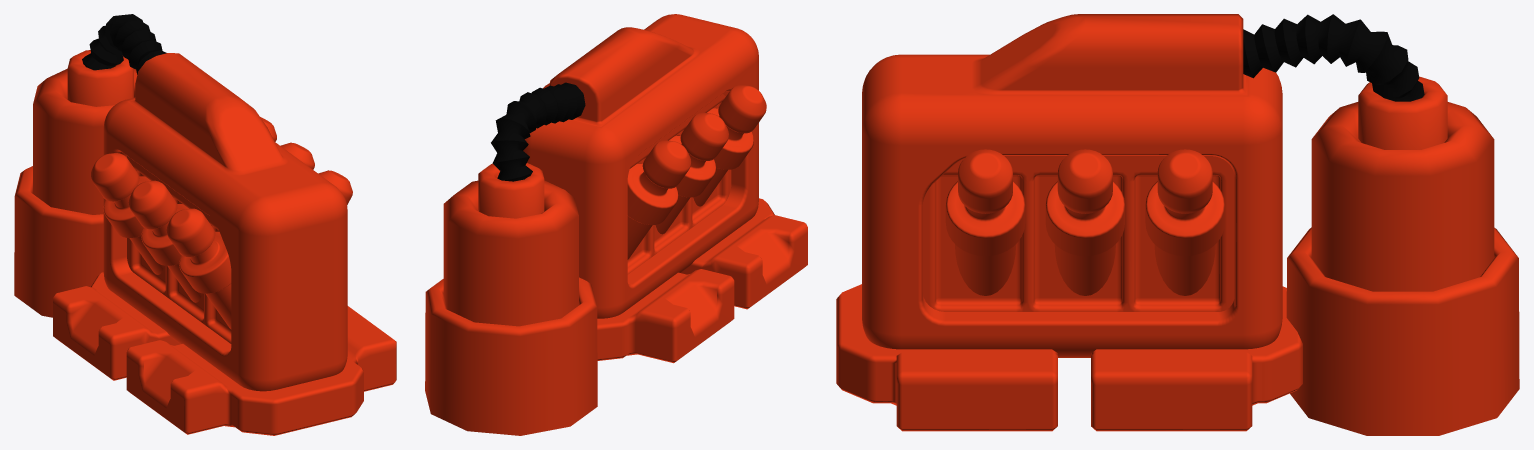
3 views of the same model, side by side, from view 1: azimuth 30°, elevation 25°; view 2: azimuth 150°, elevation 25°; view 3: azimuth 270°, elevation 25° (orthographic). The views are drawn at different scales.
Visible parts, largest first — view 1: Cube.012, Cube.014, Cylinder.018, Cylinder.015, Cylinder.014, Cube.015, Cube.013, Cylinder.017, Cylinder.016, Cylinder.013; view 2: Cube.012, Cylinder.015, Cylinder.014, Cylinder.018, Cube.015, Cube.014, Cylinder.017, Cube.013, Cylinder.016; view 3: Cube.012, Cylinder.015, Cylinder.014, Cylinder.013, Cube.013, Cube.014, Cube.015, Cylinder.017, Cylinder.016.
Boxes of the visible parts, x1,y1,x2,y2 form: Cube.012: (103, 53, 347, 391); Cube.014: (126, 306, 396, 435); Cylinder.018: (91, 153, 231, 329); Cylinder.015: (14, 166, 103, 317); Cylinder.014: (33, 68, 137, 214); Cube.015: (53, 272, 180, 380); Cube.013: (127, 156, 231, 343); Cylinder.017: (82, 14, 166, 74); Cylinder.016: (67, 50, 133, 106); Cylinder.013: (260, 117, 352, 205); Cube.012: (523, 14, 758, 318); Cylinder.015: (425, 277, 597, 435); Cylinder.014: (443, 180, 578, 326); Cylinder.018: (627, 85, 766, 259); Cube.015: (597, 269, 734, 363); Cube.014: (681, 198, 807, 309); Cylinder.017: (491, 82, 585, 181); Cube.013: (627, 93, 731, 274); Cylinder.016: (478, 163, 544, 218); Cube.012: (862, 14, 1282, 357); Cylinder.015: (1286, 227, 1519, 435); Cylinder.014: (1311, 102, 1494, 291); Cylinder.013: (945, 149, 1224, 295); Cube.013: (922, 156, 1234, 311); Cube.014: (836, 284, 1057, 431); Cube.015: (1091, 286, 1302, 431); Cylinder.017: (1243, 14, 1424, 101); Cylinder.016: (1358, 76, 1447, 149).
Size of the model in its own units: 401 by 514 by 847.
